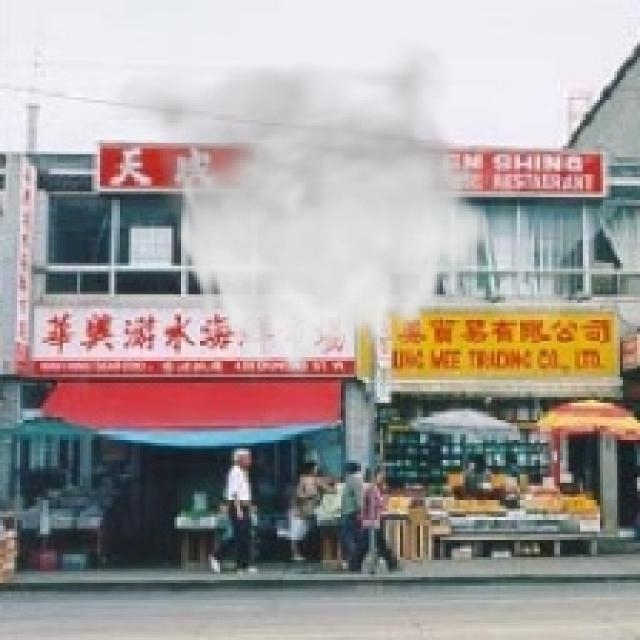Smoke: (106, 37, 497, 386)
